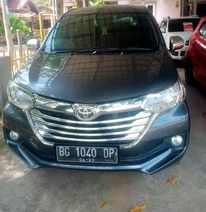plate: (56, 143, 119, 167)
